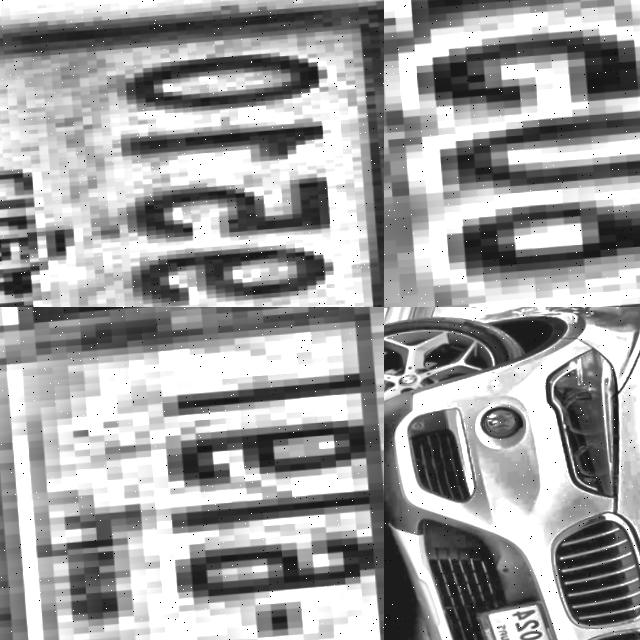license-plate: (0, 307, 384, 640), (0, 0, 384, 307), (384, 0, 640, 307), (469, 598, 572, 640)
